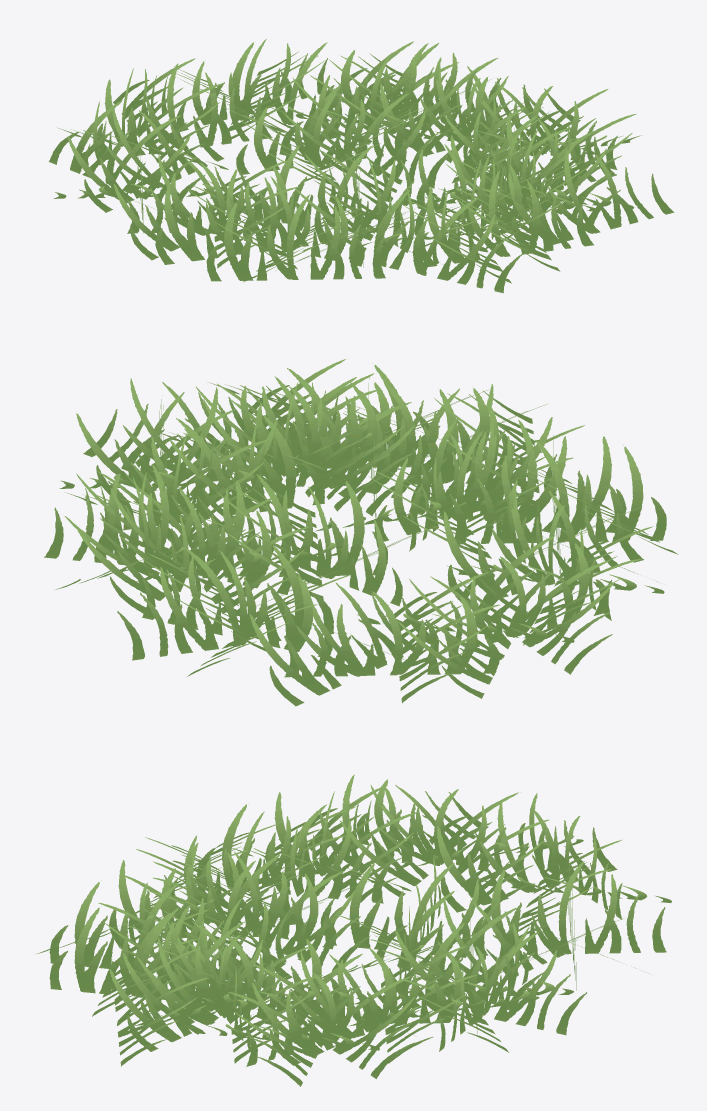
File: V_Grass0.fbx
3 views of the same model, one above another, from view 1: azimuth 30°, elevation 25°; view 2: azimuth 150°, elevation 25°; view 3: azimuth 270°, elevation 25° (orthographic). The views are drawn at different scales.
Parts seen in each view (by area): view 1: TW101_grass06; view 2: TW101_grass06; view 3: TW101_grass06.
Part boxes in pixels (x1=…): TW101_grass06: x1=49, y1=39, x2=674, y2=293; TW101_grass06: x1=44, y1=359, x2=678, y2=706; TW101_grass06: x1=37, y1=775, x2=671, y2=1086.
Bounding box in the file's own units: 1.49 × 0.1852 × 1.43.
